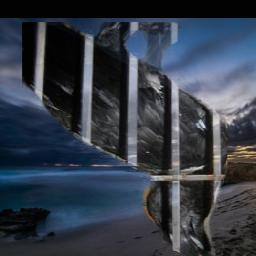Crow: (22, 23, 227, 256)
